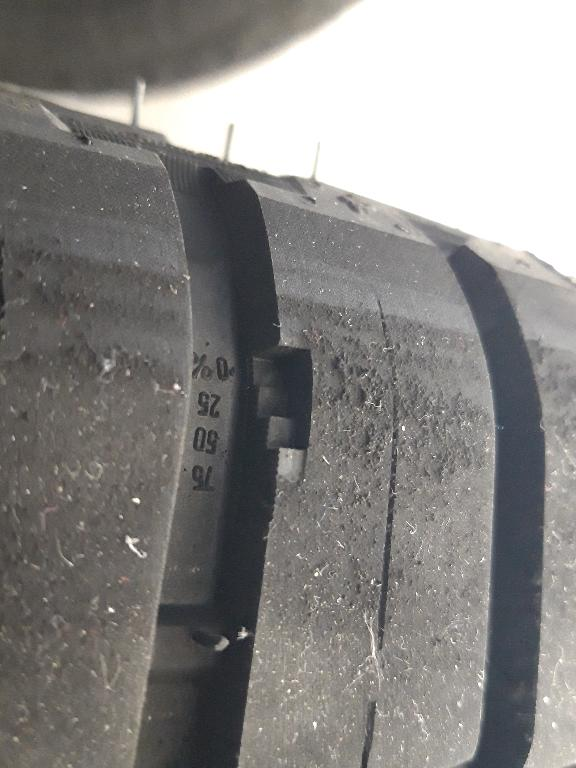temoin:75: (233, 336, 325, 495)
